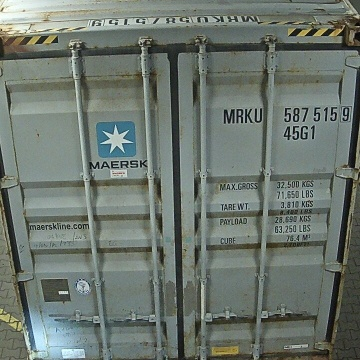serial_id: (223, 106, 352, 122)
